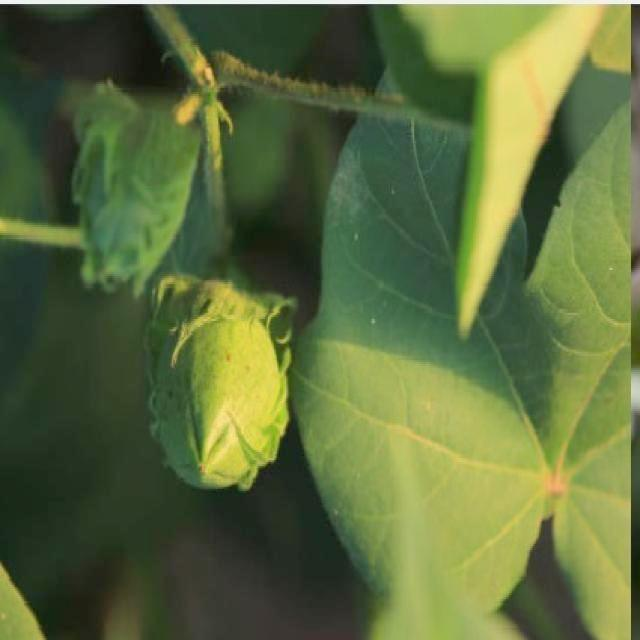Early Boll: (143, 280, 301, 498), (56, 96, 206, 287)
